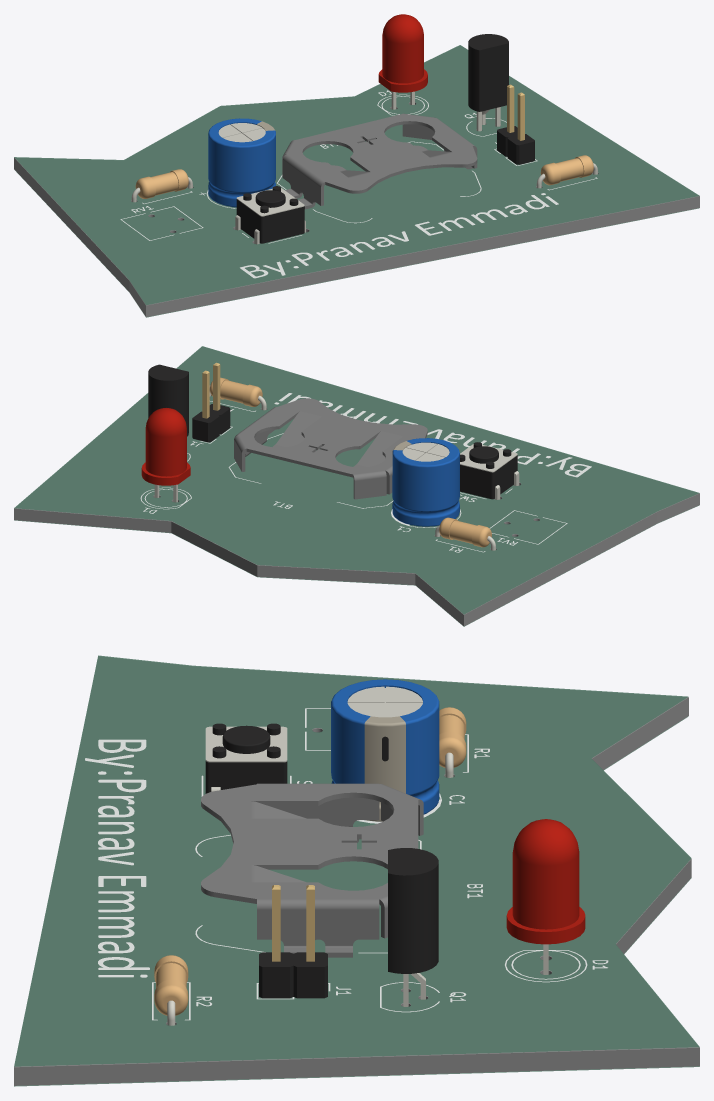
Rendered from fidgetBoard.glb.
3 views of the same model, one above another, from view 1: azimuth 30°, elevation 25°; view 2: azimuth 150°, elevation 25°; view 3: azimuth 270°, elevation 25° (orthographic). The views are drawn at different scales.
Visible parts, largest first — view 1: =>[0:1:1:11], =>[0:1:1:10], BT1, C1, D1, Q1, SW1, =>[0:1:1:9], J1, R1, R2; view 2: =>[0:1:1:11], =>[0:1:1:10], BT1, C1, D1, SW1, =>[0:1:1:9], Q1, J1, R1, R2; view 3: =>[0:1:1:11], =>[0:1:1:10], BT1, C1, D1, Q1, =>[0:1:1:9], SW1, J1, R2, R1.
Part boxes in pixels (x1,y1,x2,y2): =>[0:1:1:11]: (14, 46, 699, 317); =>[0:1:1:10]: (14, 45, 699, 317); BT1: (282, 113, 477, 209); C1: (208, 118, 275, 207); D1: (378, 14, 427, 109); Q1: (468, 34, 508, 131); SW1: (235, 186, 305, 244); =>[0:1:1:9]: (120, 90, 597, 278); J1: (497, 84, 534, 164); R1: (131, 169, 192, 202); R2: (536, 155, 597, 188); =>[0:1:1:11]: (14, 347, 699, 626); =>[0:1:1:10]: (14, 346, 699, 626); BT1: (234, 398, 427, 499); C1: (392, 438, 459, 526); D1: (141, 408, 190, 502); SW1: (460, 442, 519, 499); =>[0:1:1:9]: (140, 393, 591, 552); Q1: (148, 364, 188, 436); J1: (192, 362, 230, 442); R1: (435, 517, 495, 550); R2: (209, 377, 266, 410); =>[0:1:1:11]: (14, 656, 699, 1085); =>[0:1:1:10]: (14, 655, 699, 1086); BT1: (201, 783, 423, 957); C1: (331, 679, 439, 821); D1: (506, 819, 585, 974); Q1: (388, 848, 438, 1006); =>[0:1:1:9]: (85, 708, 608, 1020); SW1: (205, 723, 287, 793); J1: (259, 885, 327, 998); R2: (154, 955, 188, 1025); R1: (439, 707, 466, 777).
Bounding box in the file's own units: 0.0716 × 0.0151 × 0.0505.
